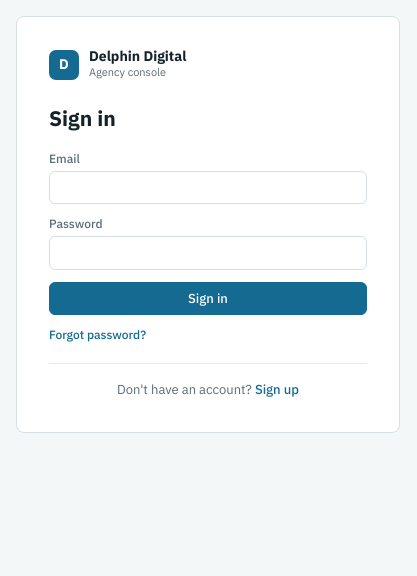
sign in › offers to resend the verification e-mail
The width and height of the screenshot is (417, 576).
In the field labelled "Email": [208, 188] box [49,171,367,204], type "ada@example.com"
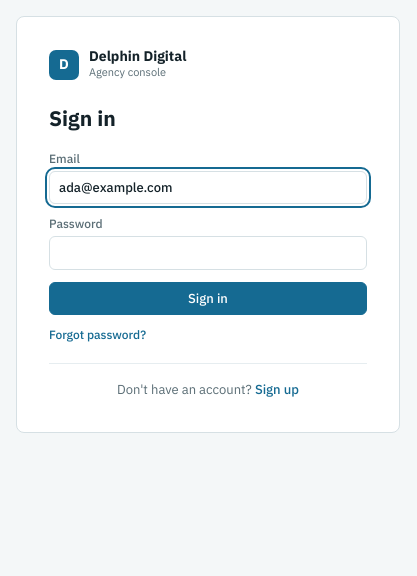
In the password field labelled "Password": [208, 253] box [49,236,367,270], type "correct-horse-battery-staple"
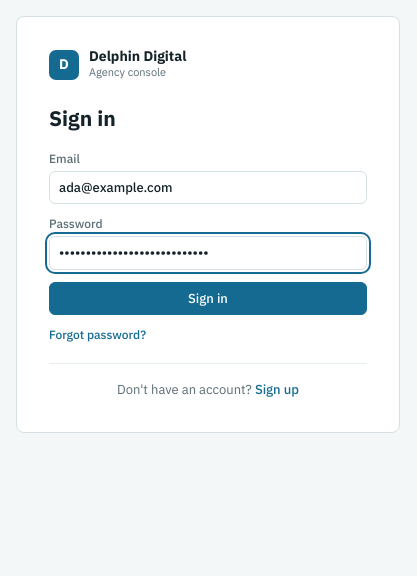
Click the button "Sign in": [208, 299] box [49,282,367,315]
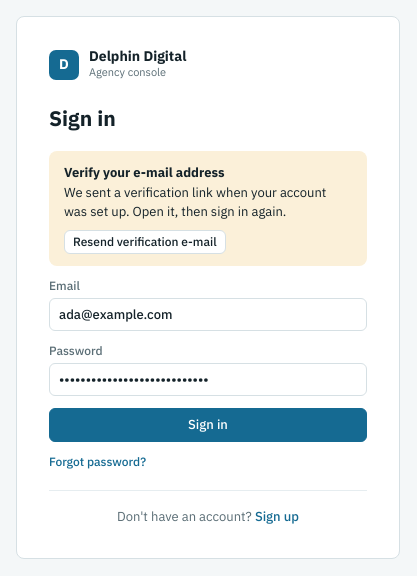
Now the text "Verify your e-mail address" is shown, box [64,164,224,181]
Click the button "Resend verification e-mail": [145, 242] box [64,230,226,254]
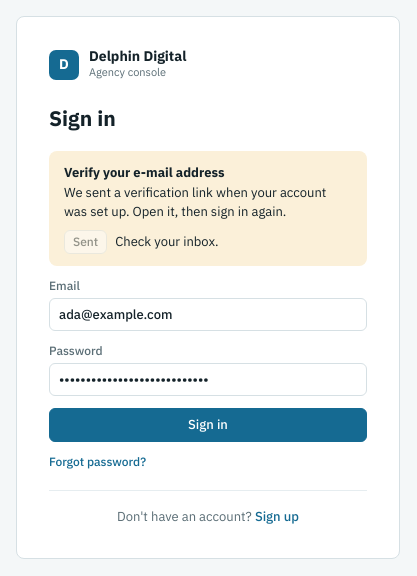
Now the text "Check your inbox." is shown, box [115,232,219,251]
